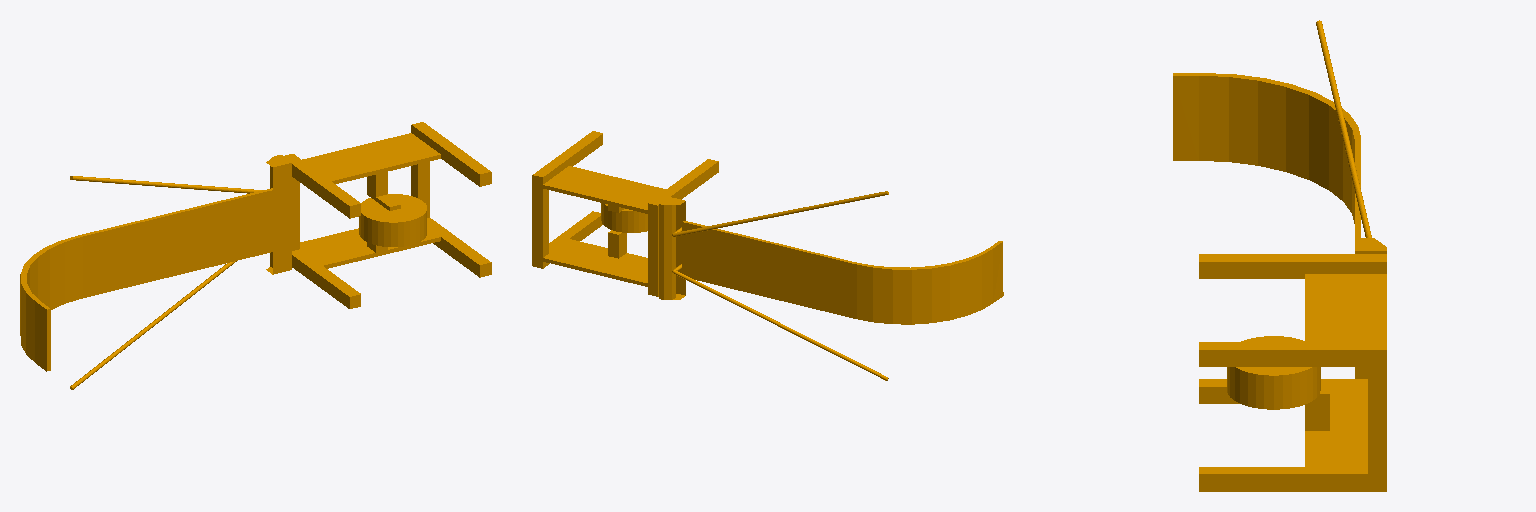
URDF robot description (fixed_caser_v1):
<?xml version="1.0"?>
<robot name="fixed_caser_v1">
 
    <link name="base_link">
        <visual>   <geometry> <mesh filename="base1.dae"/> </geometry> </visual>
        <collision><geometry> <mesh filename="base1.dae"/> </geometry> </collision>

        <visual>   <geometry> <mesh filename="base2.dae"/> </geometry> </visual>
        <collision><geometry> <mesh filename="base2.dae"/> </geometry> </collision>

        <visual>   <geometry> <mesh filename="base3.dae"/> </geometry> </visual>
        <collision><geometry> <mesh filename="base3.dae"/> </geometry> </collision>

        <visual>   <geometry> <mesh filename="base4.dae"/> </geometry> </visual>
        <collision><geometry> <mesh filename="base4.dae"/> </geometry> </collision>
        
        <visual>   <geometry> <mesh filename="base5.dae"/> </geometry> </visual>
        <collision><geometry> <mesh filename="base5.dae"/> </geometry> </collision>

        <visual>   <geometry> <mesh filename="base6.dae"/> </geometry> </visual>
        <collision><geometry> <mesh filename="base6.dae"/> </geometry> </collision>

        <visual>   <geometry> <mesh filename="fold_left1.dae"/> </geometry> </visual>
        <visual>   <geometry> <mesh filename="fold_left2.dae"/> </geometry> </visual>
        <visual>   <geometry> <mesh filename="fold_right1.dae"/> </geometry> </visual>
        <visual>   <geometry> <mesh filename="fold_right2.dae"/> </geometry> </visual>

        <visual>   <geometry> <mesh filename="fix1.dae"/> </geometry> </visual>
        <collision><geometry> <mesh filename="fix1.dae"/> </geometry> </collision>
        <visual>   <geometry> <mesh filename="fix2.dae"/> </geometry> </visual>
        <collision><geometry> <mesh filename="fix2.dae"/> </geometry> </collision>
        <visual>   <geometry> <mesh filename="fix3.dae"/> </geometry> </visual>
        <collision><geometry> <mesh filename="fix3.dae"/> </geometry> </collision>
        <visual>   <geometry> <mesh filename="fix4.dae"/> </geometry> </visual>
        <collision><geometry> <mesh filename="fix4.dae"/> </geometry> </collision>
        <visual>   <geometry> <mesh filename="fix5.dae"/> </geometry> </visual>
        <collision><geometry> <mesh filename="fix5.dae"/> </geometry> </collision>
        <visual>   <geometry> <mesh filename="fix6.dae"/> </geometry> </visual>
        <collision><geometry> <mesh filename="fix6.dae"/> </geometry> </collision>
        <visual>   <geometry> <mesh filename="fix7.dae"/> </geometry> </visual>
        <collision><geometry> <mesh filename="fix7.dae"/> </geometry> </collision>
        <visual>   <geometry> <mesh filename="fix8.dae"/> </geometry> </visual>
        <collision><geometry> <mesh filename="fix8.dae"/> </geometry> </collision>
        <visual>   <geometry> <mesh filename="fix9.dae"/> </geometry> </visual>
        <collision><geometry> <mesh filename="fix9.dae"/> </geometry> </collision>
        <visual>   <geometry> <mesh filename="fix10.dae"/> </geometry> </visual>
        <collision><geometry> <mesh filename="fix10.dae"/> </geometry> </collision>

        <inertial>
            <origin xyz="0 0 0" rpy="0 0 0"/>
            <mass value="1.0"/>
            <inertia ixx="0.1" ixy="0.0" ixz="0.0" iyy="0.1" iyz="0.0" izz="0.1"/>
        </inertial>
    </link>

    <link name="cutter_1_link">

        <inertial>
            <origin xyz="0 0 0" rpy="0 0 0"/><mass value="0.2"/>
            <inertia ixx="0.01" ixy="0.0" ixz="0.0" iyy="0.01" iyz="0.0" izz="0.01"/>
        </inertial>
    </link>

    <joint name="base_to_cutter_joint" type="revolute">
        <parent link="base_link"/>
        <child link="cutter_1_link"/>
        <origin xyz="-0.3 0 0.01" rpy="0 0 0"/> <axis xyz="0 1 0"/>               
        <limit lower="-1.57" upper="1.57" effort="10.0" velocity="1.0"/>
    </joint>

    <link name="cutter_children_link">

        <inertial>
            <origin xyz="0 0 0" rpy="0 0 0"/><mass value="0.3"/>
            <inertia ixx="0.01" ixy="0.0" ixz="0.0" iyy="0.01" iyz="0.0" izz="0.01"/>
        </inertial>
    </link>

    <joint name="cutter_1_to_children" type="fixed">
        <parent link="cutter_1_link"/>
        <child link="cutter_children_link"/>
        <origin xyz="0 0 0" rpy="0 0 0"/>
    </joint>


    <link name="taping_front_1_link">

        <inertial>
            <origin xyz="0 0 0" rpy="0 0 0"/><mass value="0.2"/>
            <inertia ixx="0.01" ixy="0.0" ixz="0.0" iyy="0.01" iyz="0.0" izz="0.01"/>
        </inertial>
    </link>

    <joint name="base_to_taping_front_joint" type="revolute">
        <parent link="base_link"/>
        <child link="taping_front_1_link"/>
        <origin xyz="-0.3 0 0.03" rpy="0 0 0"/> <axis xyz="0 1 0"/>
        <limit lower="-1.57" upper="1.57" effort="10.0" velocity="1.0"/>
    </joint>

    <link name="taping_front_children_link">

        <inertial>
            <origin xyz="0 0 0" rpy="0 0 0"/><mass value="0.3"/>
            <inertia ixx="0.01" ixy="0.0" ixz="0.0" iyy="0.01" iyz="0.0" izz="0.01"/>
        </inertial>
    </link>

    <joint name="taping_front_1_to_children" type="fixed">
        <parent link="taping_front_1_link"/>
        <child link="taping_front_children_link"/>
        <origin xyz="0 0 0" rpy="0 0 0"/>
    </joint>


    <link name="taping_back_1_link">

        <inertial>
            <origin xyz="0 0 0" rpy="0 0 0"/><mass value="0.2"/>
            <inertia ixx="0.01" ixy="0.0" ixz="0.0" iyy="0.01" iyz="0.0" izz="0.01"/>
        </inertial>
    </link>

    <joint name="base_to_taping_back_joint" type="revolute">
        <parent link="base_link"/>
        <child link="taping_back_1_link"/>
        <origin xyz="0.0 0 0.03" rpy="0 0 0"/> <axis xyz="0 1 0"/>
        <limit lower="-1.57" upper="1.57" effort="10.0" velocity="1.0"/>
    </joint>

    <link name="taping_back_children_link">

        <inertial>
            <origin xyz="0 0 0" rpy="0 0 0"/><mass value="0.3"/>
            <inertia ixx="0.01" ixy="0.0" ixz="0.0" iyy="0.01" iyz="0.0" izz="0.01"/>
        </inertial>
    </link>

    <joint name="taping_back_1_to_children" type="fixed">
        <parent link="taping_back_1_link"/>
        <child link="taping_back_children_link"/>
        <origin xyz="0 0 0" rpy="0 0 0"/>
    </joint>

</robot>

--- Render facts (derived) ---
3 views of the same robot in one strip: view 1: azimuth 30°, elevation 25°; view 2: azimuth 150°, elevation 25°; view 3: azimuth 270°, elevation 25° (orthographic).
Model fixed_caser_v1 with 7 links and 6 joints (3 revolute, 3 fixed), rooted at base_link, posed all joints at 0.
Links seen in each view (by area): view 1: base_link; view 2: base_link; view 3: base_link.
Link boxes in pixels (x1,y1,x2,y2): base_link: (20,122,491,389); base_link: (532,131,1003,380); base_link: (1173,20,1386,491).
Size in the robot's own frame: 1.15 by 0.34 by 0.5198 metres.
Meshes: 20 distinct files referenced, 20 mesh visuals loaded (20 Collada DAE).
